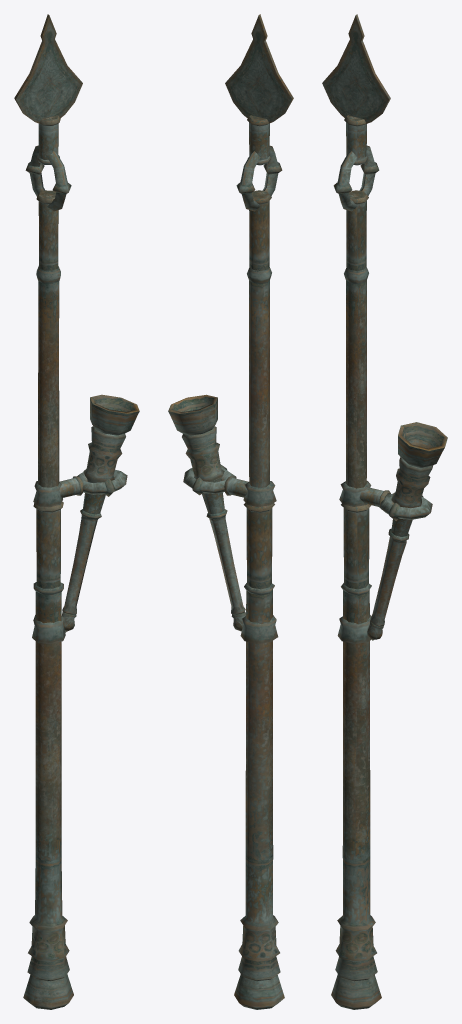
File: farudin-torch.glb
3 views of the same model, side by side, from view 1: azimuth 30°, elevation 25°; view 2: azimuth 150°, elevation 25°; view 3: azimuth 330°, elevation 25° (orthographic).
Visible parts, largest first — view 1: farudin-torch_mesh; view 2: farudin-torch_mesh; view 3: farudin-torch_mesh.
Part boxes in pixels (<box>): farudin-torch_mesh: <box>14,14,139,1009</box>; farudin-torch_mesh: <box>168,14,293,1009</box>; farudin-torch_mesh: <box>322,14,447,1009</box>.
Bounding box in the file's own units: 0.5392 × 4.17 × 0.3089.
1 material, 1 textured.
